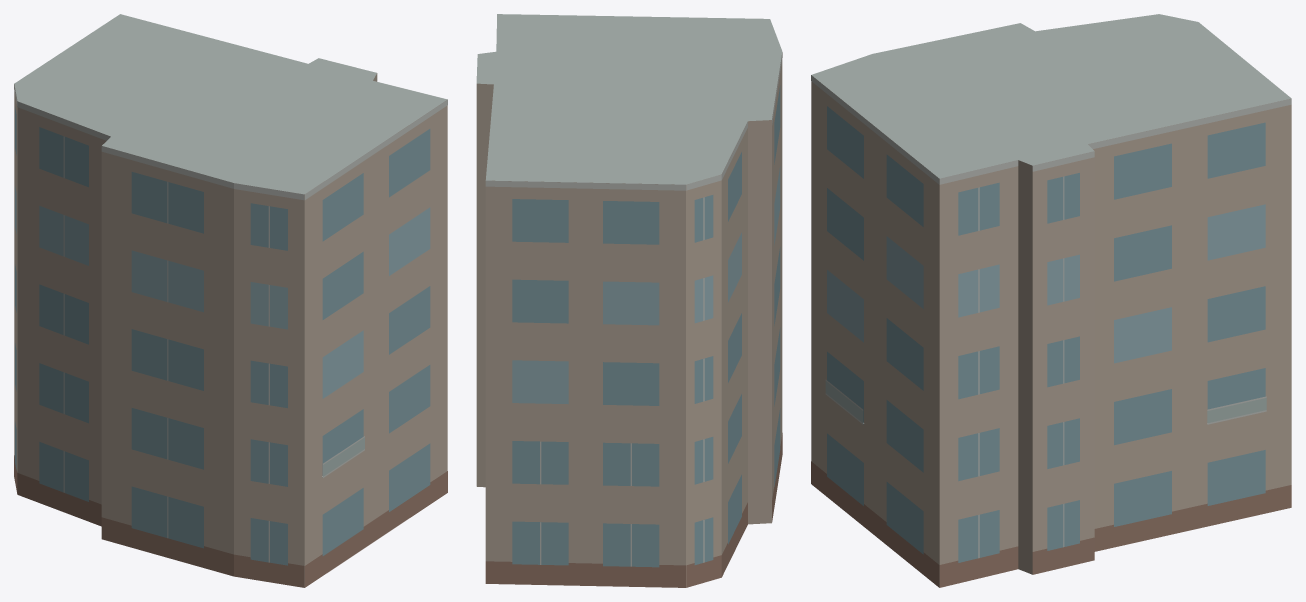
Rendered from survey-upis-32889375.glb.
The picture shows the model from 3 angles, left to right: view 1: azimuth 30°, elevation 25°; view 2: azimuth 150°, elevation 25°; view 3: azimuth 270°, elevation 25°; orthographic projection. The views are drawn at different scales.
Visible parts, largest first — view 1: survey-upis-32889375.tmp; view 2: survey-upis-32889375.tmp; view 3: survey-upis-32889375.tmp.
Boxes of the visible parts, x1,y1,x2,y2 form: survey-upis-32889375.tmp: [14, 14, 447, 587]; survey-upis-32889375.tmp: [476, 14, 782, 587]; survey-upis-32889375.tmp: [811, 14, 1291, 587].
Size of the model in its own units: 14.09 by 16.3 by 17.36.
